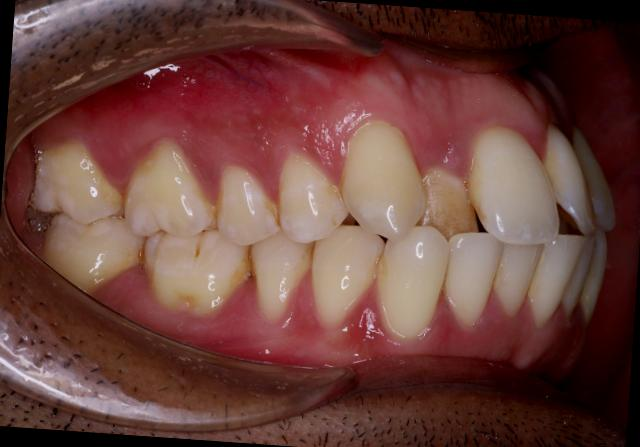canine class II 1/4: (329, 109, 462, 354)
molar class III 1/2: (114, 133, 258, 320)
